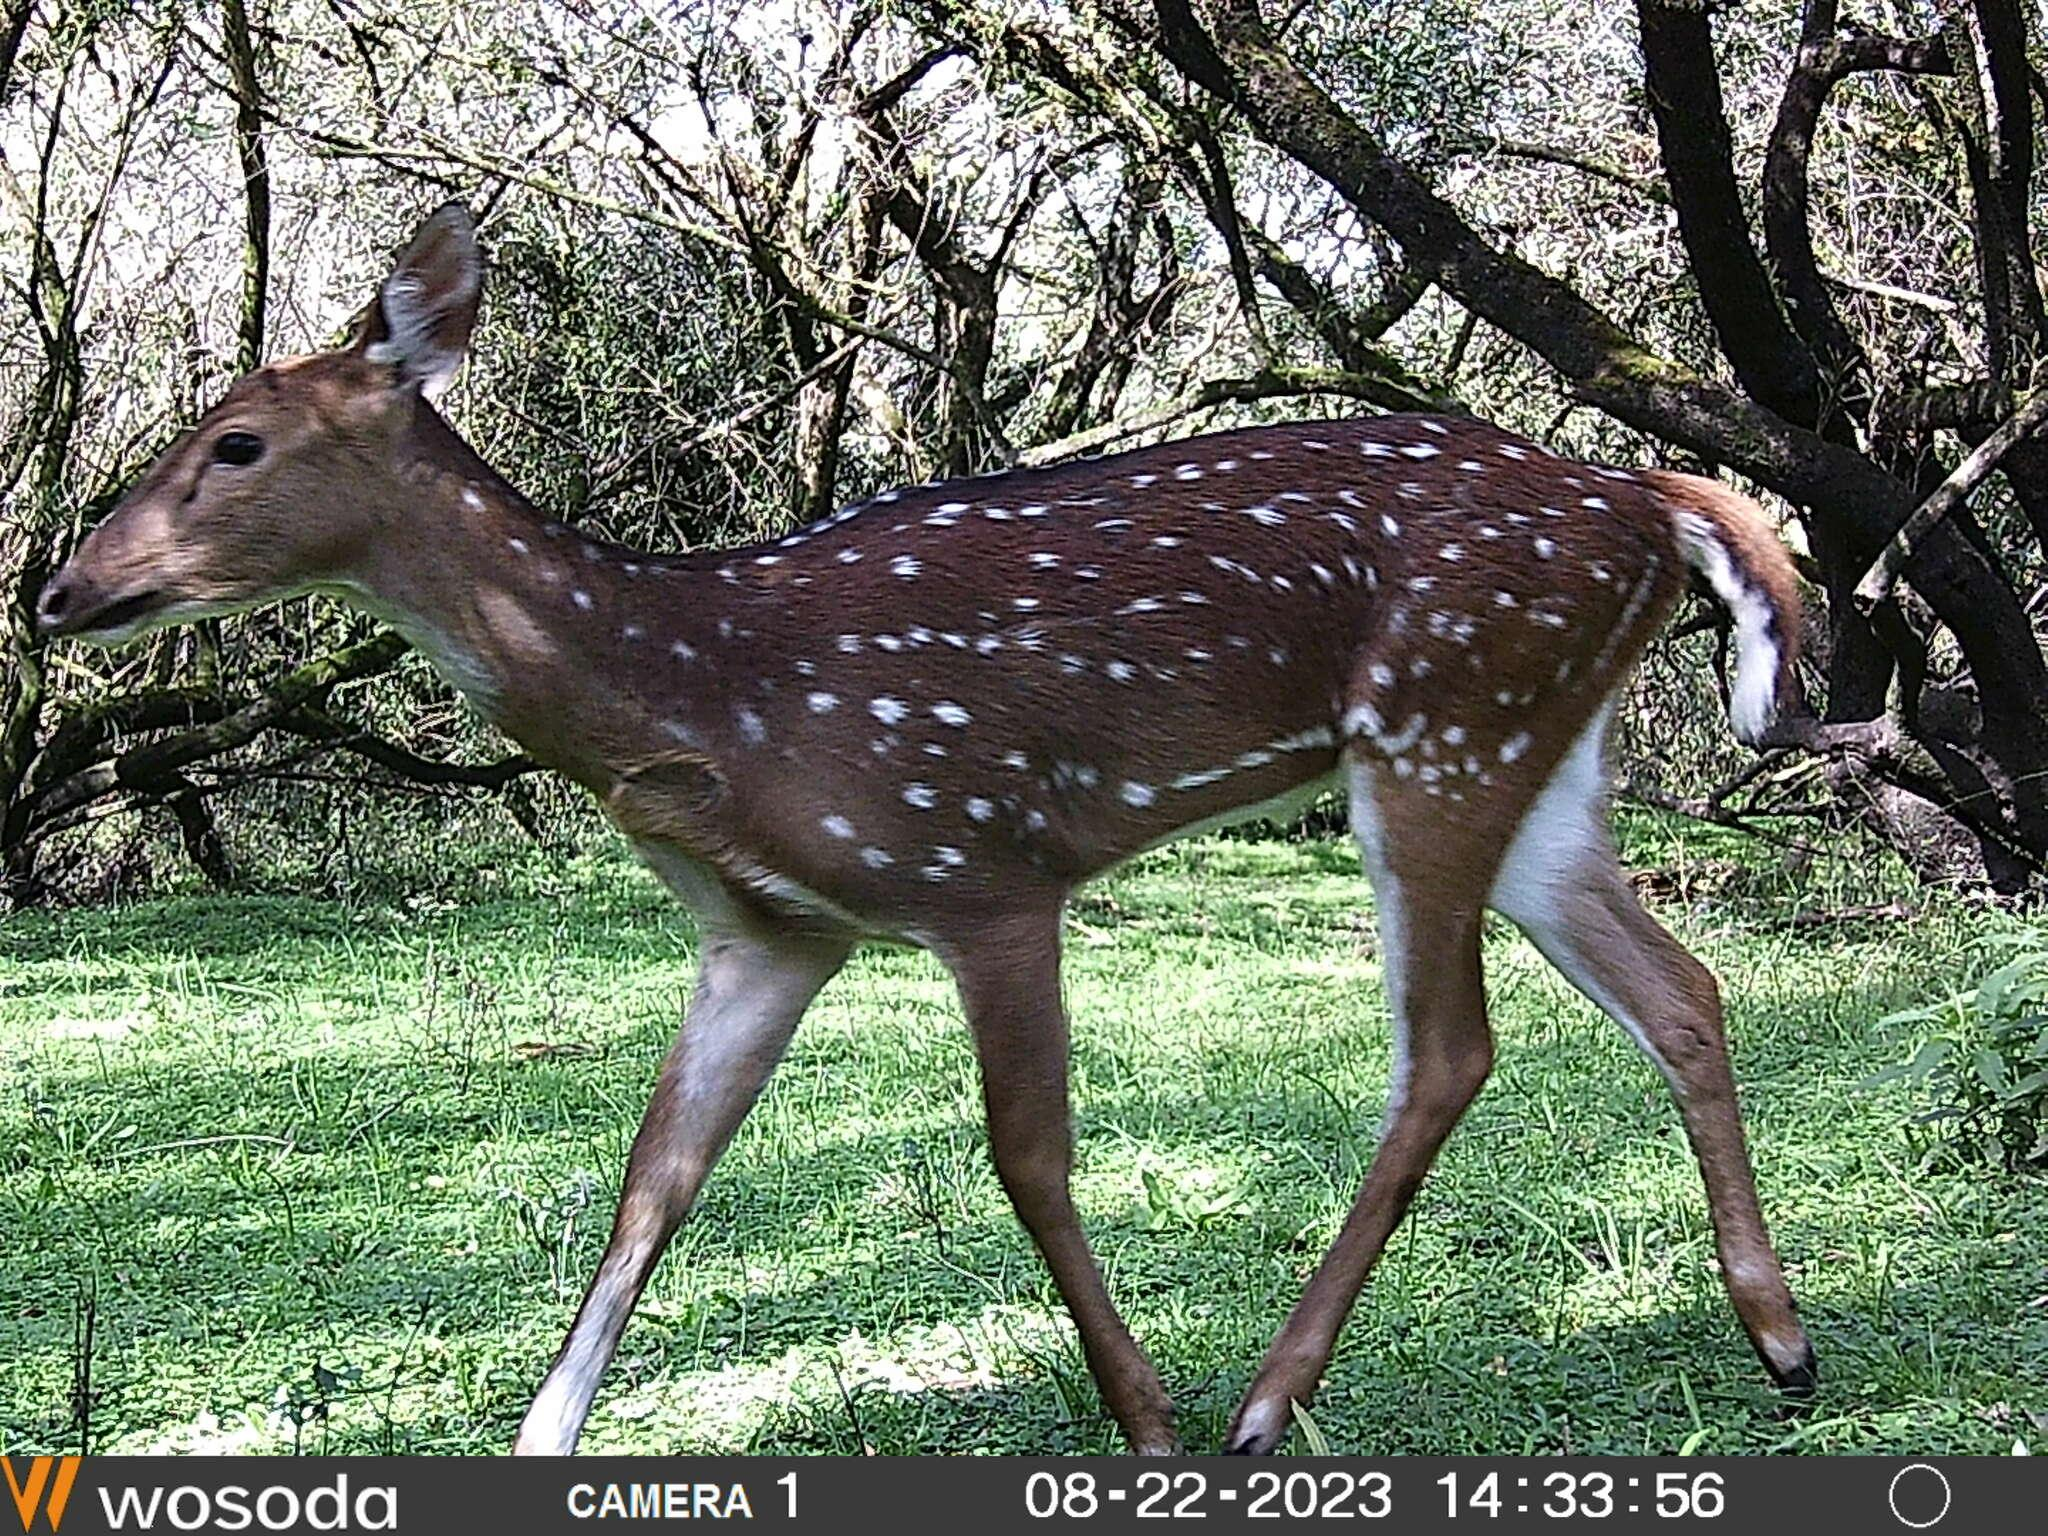Deer: (35, 205, 1813, 1455)
